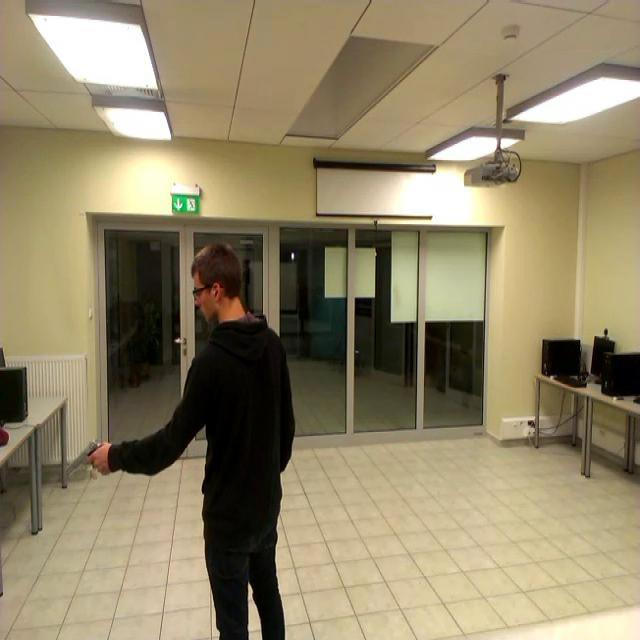weapon: (63, 441, 110, 479)
